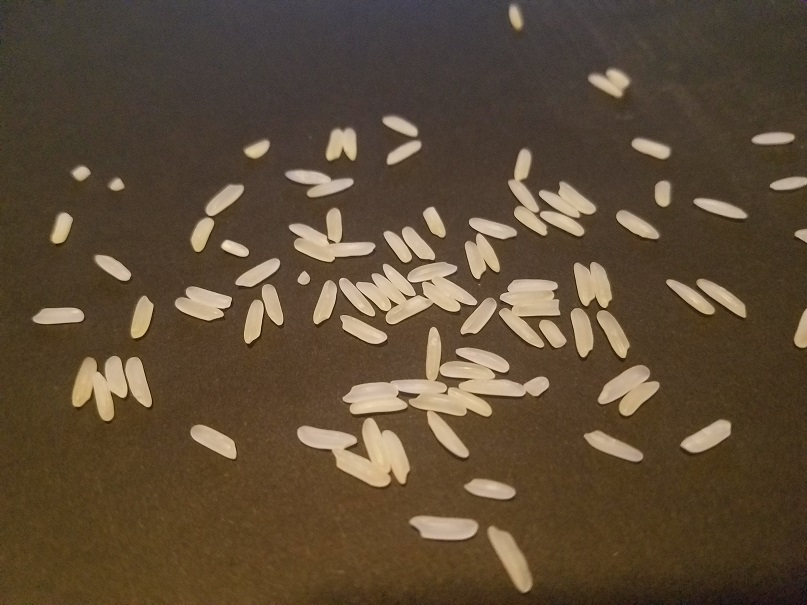egg: (485, 525, 533, 594), (330, 447, 393, 486), (424, 410, 472, 459), (581, 426, 644, 463), (597, 363, 651, 406), (695, 278, 748, 318), (379, 427, 413, 486), (679, 419, 733, 456), (360, 415, 393, 475), (406, 513, 478, 540), (664, 278, 715, 316), (189, 423, 239, 461), (123, 353, 156, 410), (498, 307, 545, 347), (595, 310, 631, 359), (338, 313, 389, 346), (337, 275, 377, 316), (234, 256, 282, 290), (617, 379, 659, 417), (295, 426, 358, 451), (430, 274, 479, 306), (69, 355, 98, 409), (454, 345, 512, 372), (91, 370, 119, 424), (447, 386, 494, 418), (384, 295, 434, 325), (409, 391, 468, 416), (615, 208, 661, 240), (172, 295, 226, 322), (102, 352, 131, 402), (205, 180, 244, 217), (691, 196, 748, 221), (461, 475, 518, 499), (399, 225, 436, 261), (467, 215, 518, 241), (457, 378, 526, 397), (128, 294, 157, 339), (570, 307, 595, 359), (460, 297, 496, 333), (419, 281, 460, 312), (382, 261, 416, 298), (439, 359, 496, 381), (92, 251, 133, 281), (507, 177, 541, 213), (473, 231, 502, 273), (341, 381, 398, 402), (260, 282, 286, 328), (311, 280, 337, 326), (406, 260, 458, 283), (371, 271, 406, 305), (355, 279, 392, 311), (184, 285, 233, 309), (346, 397, 407, 416), (589, 261, 613, 309), (243, 297, 266, 347), (305, 175, 354, 198), (513, 205, 548, 237), (572, 261, 596, 307), (292, 237, 336, 262), (380, 229, 412, 263), (384, 138, 423, 165), (463, 238, 487, 279), (381, 112, 420, 137), (188, 217, 215, 253), (538, 208, 574, 235), (390, 378, 447, 395), (630, 137, 672, 160), (537, 319, 568, 350), (323, 240, 376, 258), (538, 188, 572, 216), (31, 307, 89, 323), (587, 73, 624, 98), (288, 221, 328, 244), (511, 298, 559, 317), (50, 210, 74, 247), (425, 325, 441, 380), (420, 205, 447, 237), (507, 277, 559, 293), (283, 167, 331, 184), (498, 291, 554, 305), (768, 174, 807, 193), (325, 126, 344, 162), (242, 138, 273, 160), (790, 308, 807, 348), (750, 131, 795, 146), (326, 207, 344, 243), (218, 237, 250, 257), (512, 150, 532, 182), (605, 66, 632, 88), (343, 127, 359, 162), (653, 178, 671, 209), (506, 3, 524, 34), (526, 375, 550, 398), (69, 163, 93, 183), (557, 180, 576, 205), (106, 174, 126, 192), (792, 227, 807, 245), (295, 269, 311, 284)
